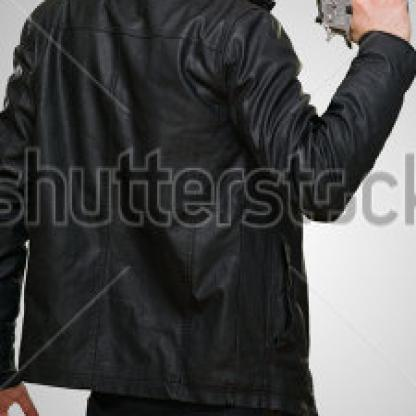gun: (298, 0, 414, 86)
